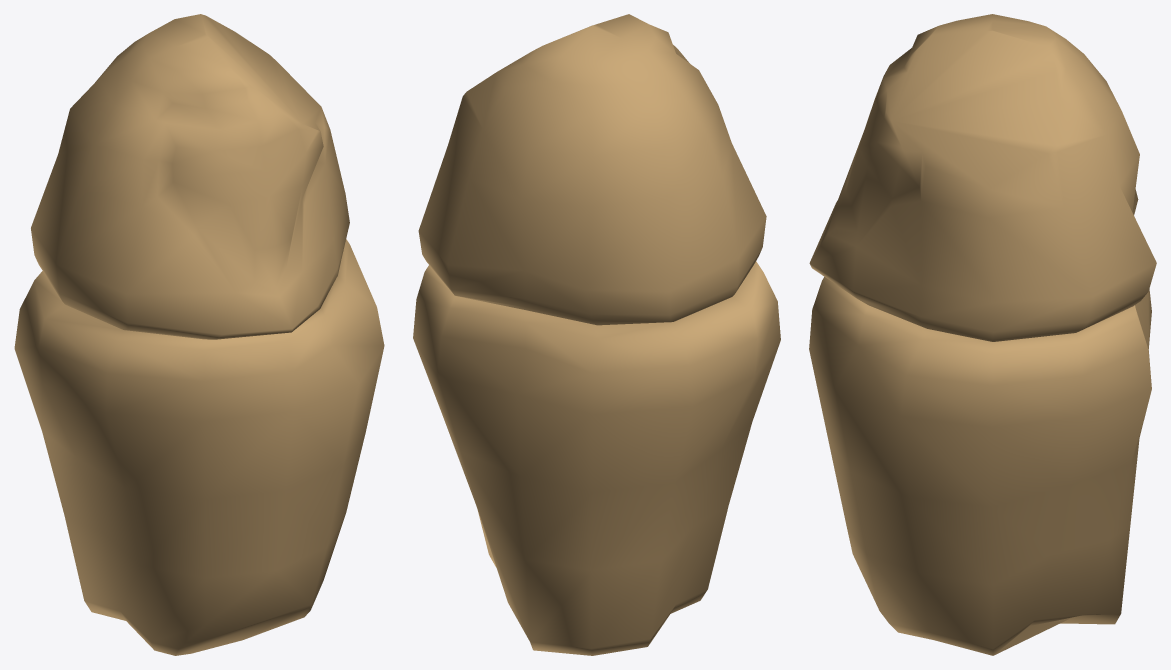
File: WornCarving.fbx
3 renders of one model, left to right at view 1: azimuth 30°, elevation 25°; view 2: azimuth 150°, elevation 25°; view 3: azimuth 270°, elevation 25°, orthographic. The views are drawn at different scales.
Parts seen in each view (by area): view 1: FadedSculpt; view 2: FadedSculpt; view 3: FadedSculpt.
Boxes of the visible parts, x1,y1,x2,y2 form: FadedSculpt: (14,14,384,655); FadedSculpt: (413,14,780,655); FadedSculpt: (809,14,1156,655).
Bounding box in the file's own units: 13.49 × 23.32 × 12.37.
